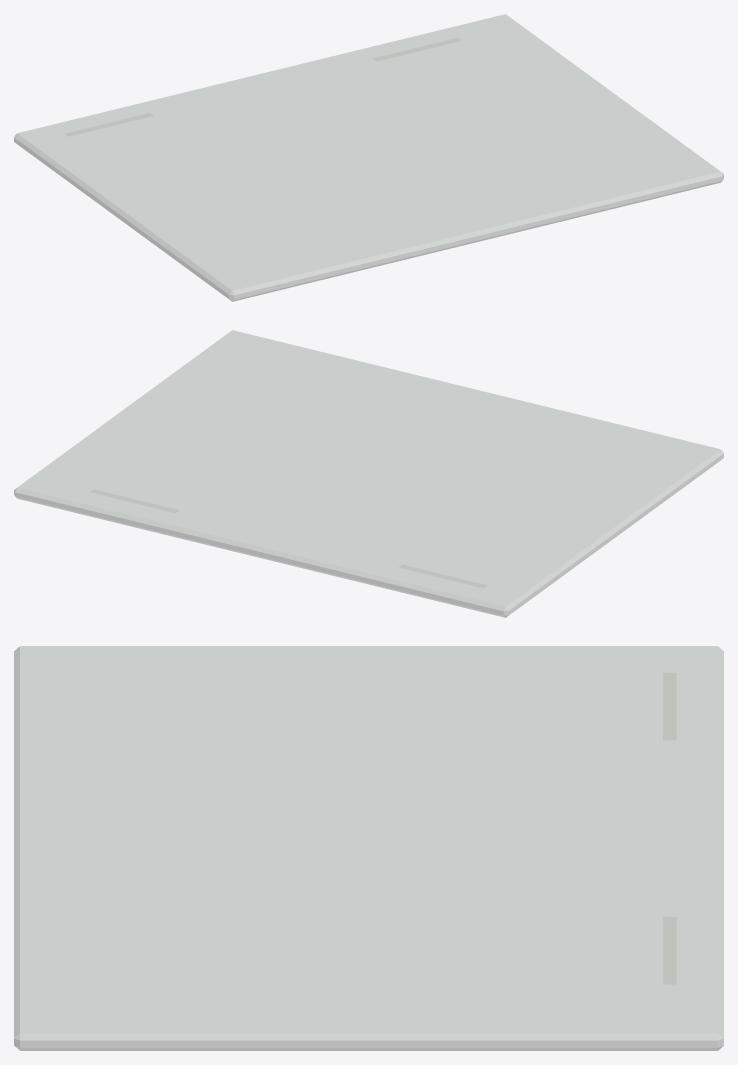
The model's file is polycarbonate_sheet.glb.
The picture shows the model from 3 angles, top to bottom: view 1: azimuth 30°, elevation 25°; view 2: azimuth 150°, elevation 25°; view 3: azimuth 270°, elevation 25°; orthographic projection. The views are drawn at different scales.
Parts seen in each view (by area): view 1: block_stock material; view 2: block_stock material; view 3: block_stock material, block_edge glint (×2).
Part boxes in pixels (bbox=[...]): block_stock material: bbox=[14, 14, 723, 301]; block_stock material: bbox=[14, 330, 723, 617]; block_stock material: bbox=[14, 646, 723, 1050]; block_edge glint (×2): bbox=[663, 672, 676, 984].
Size of the model in its own units: 0.1492 by 0.00336 by 0.1143.
Materials: 1 (1 with a texture image).
